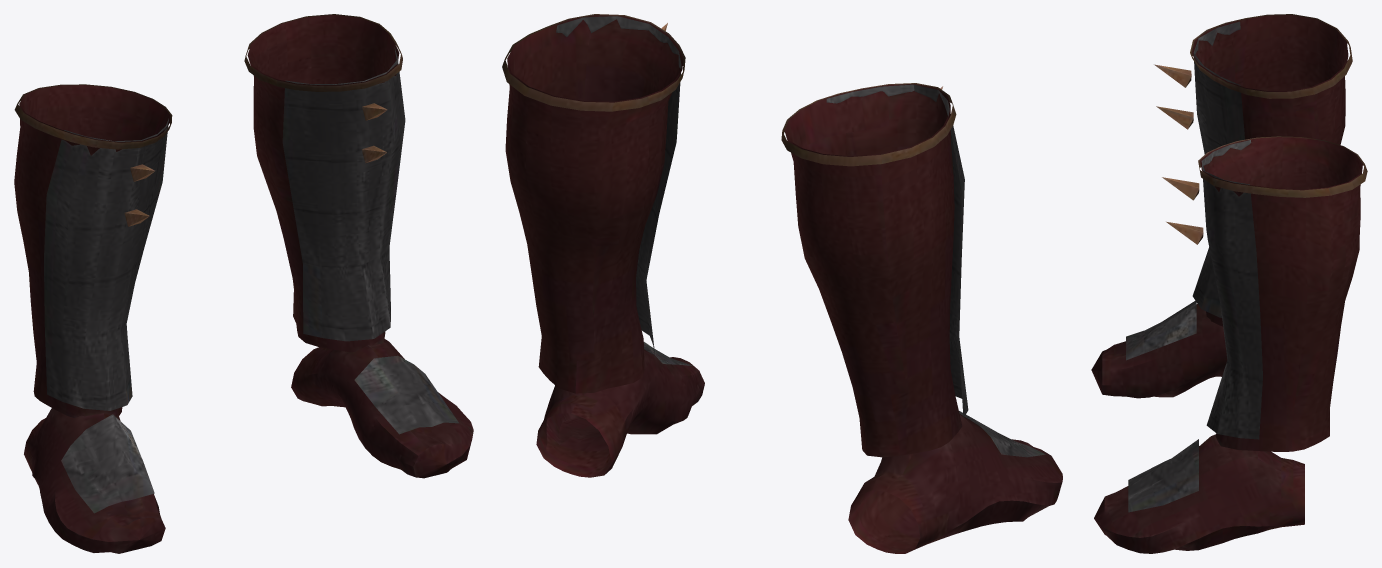
File: Botas_de_Placas_nivel75.glb
3 views of the same model, side by side, from view 1: azimuth 30°, elevation 25°; view 2: azimuth 150°, elevation 25°; view 3: azimuth 270°, elevation 25° (orthographic). The views are drawn at different scales.
Visible parts, largest first — view 1: botas_de_placas_nivel75; view 2: botas_de_placas_nivel75; view 3: botas_de_placas_nivel75.
Part boxes in pixels (x1,y1,x2,y2): botas_de_placas_nivel75: (14, 14, 473, 553); botas_de_placas_nivel75: (502, 14, 1062, 553); botas_de_placas_nivel75: (1091, 14, 1367, 553).
Bounding box in the file's own units: 0.5105 × 0.4384 × 0.3018.
1 material, 1 textured.
